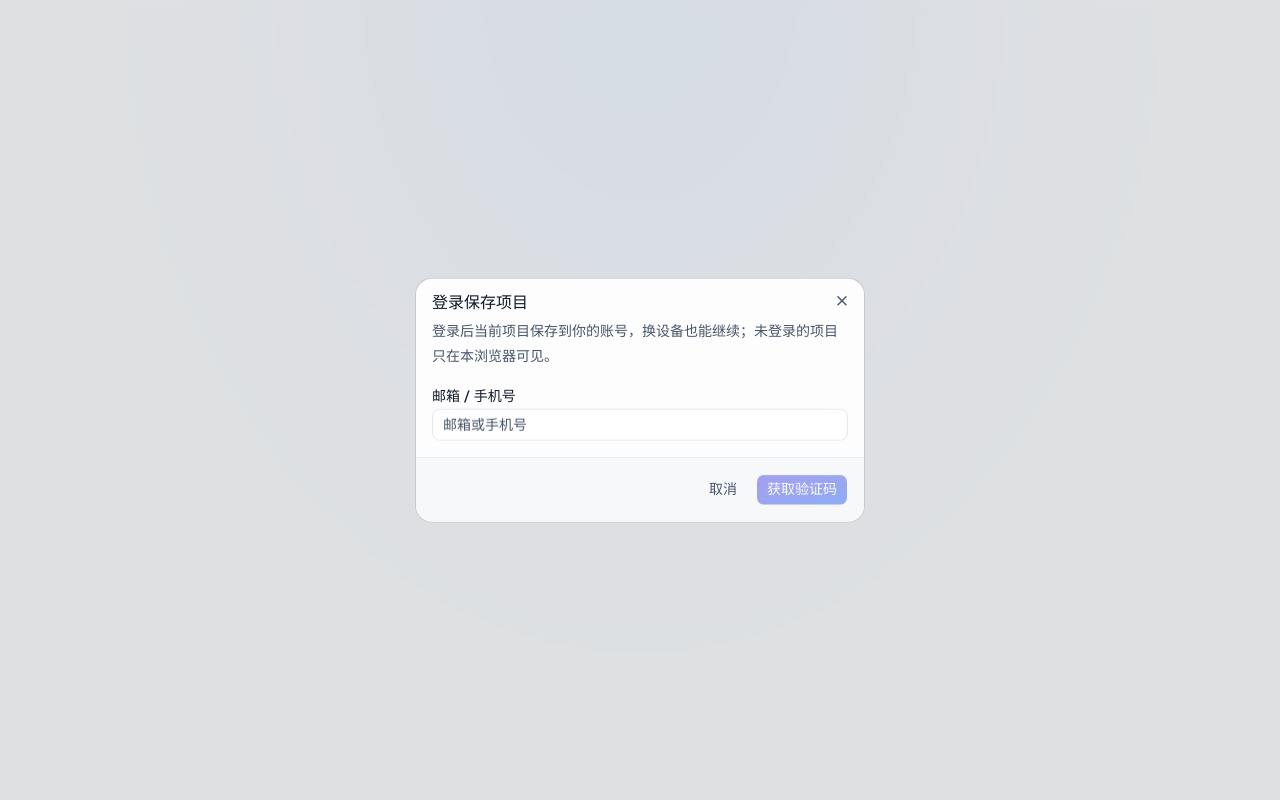
Test: M01Dialog · 错误就地提示 › 验证码错（6008）就地提示、清空输入、弹窗不关
The image size is (1280, 800).
Type "user@example.com" into the field labelled "邮箱 / 手机号" at (640, 424), box x1=432 y1=408 x2=848 y2=440
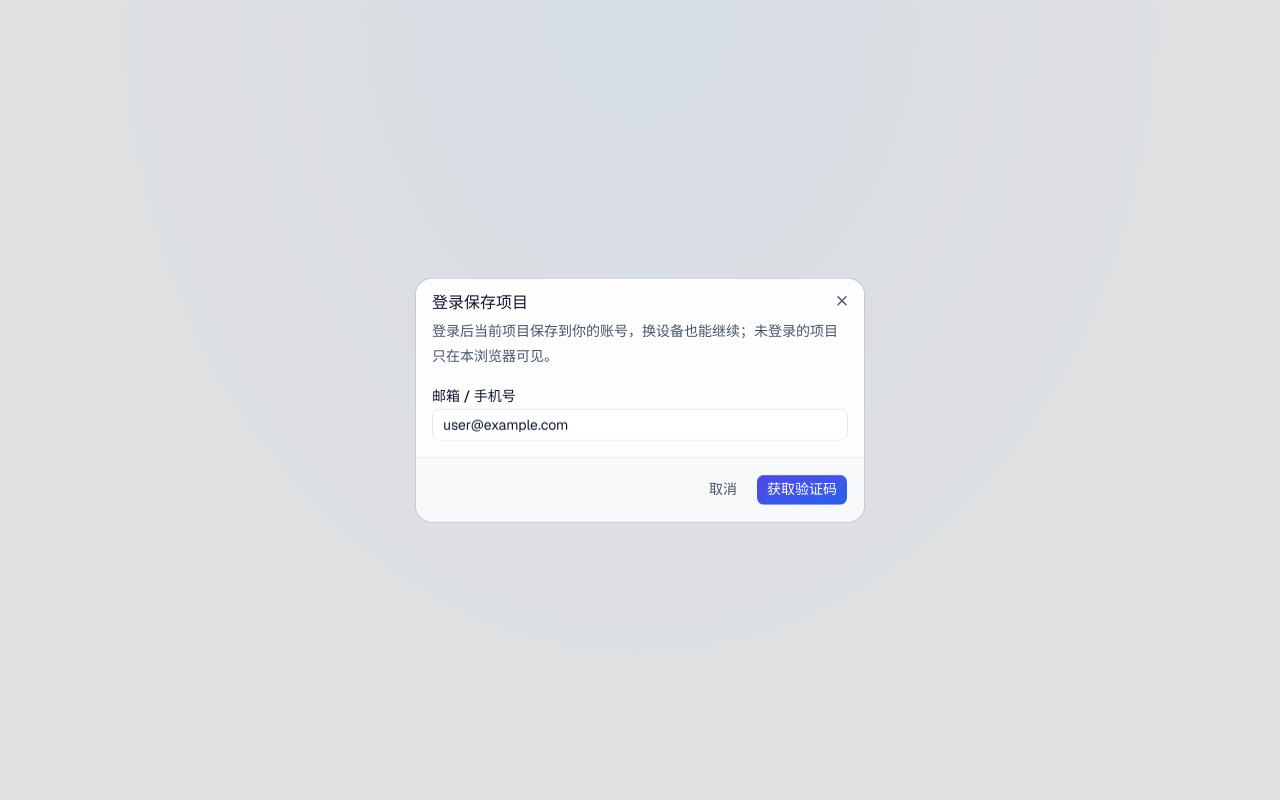
Click the button "获取验证码" at (802, 489), box x1=756 y1=473 x2=848 y2=505
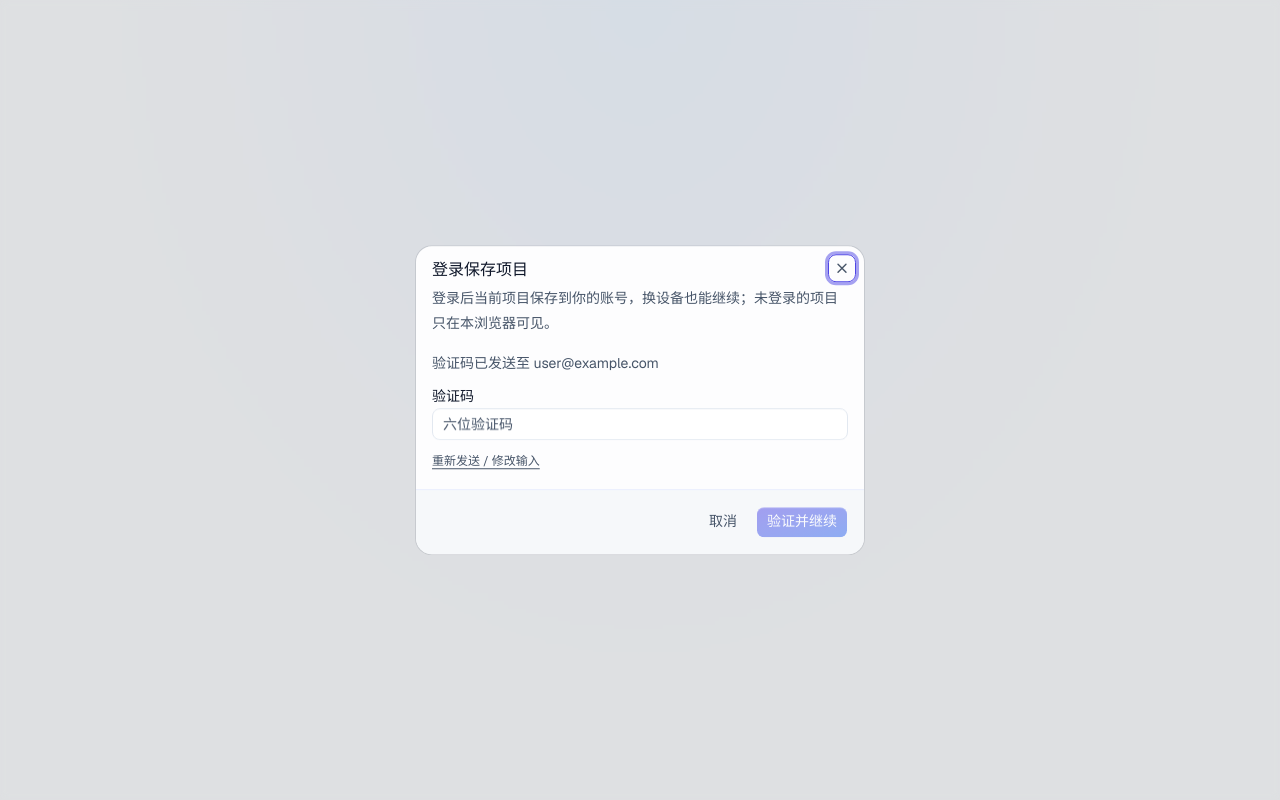
Expected: the text "验证码已发送至 user@example.com" is shown, x1=432 y1=354 x2=659 y2=372
Type "000000" into the field labelled "验证码" at (640, 424), box x1=432 y1=408 x2=848 y2=440
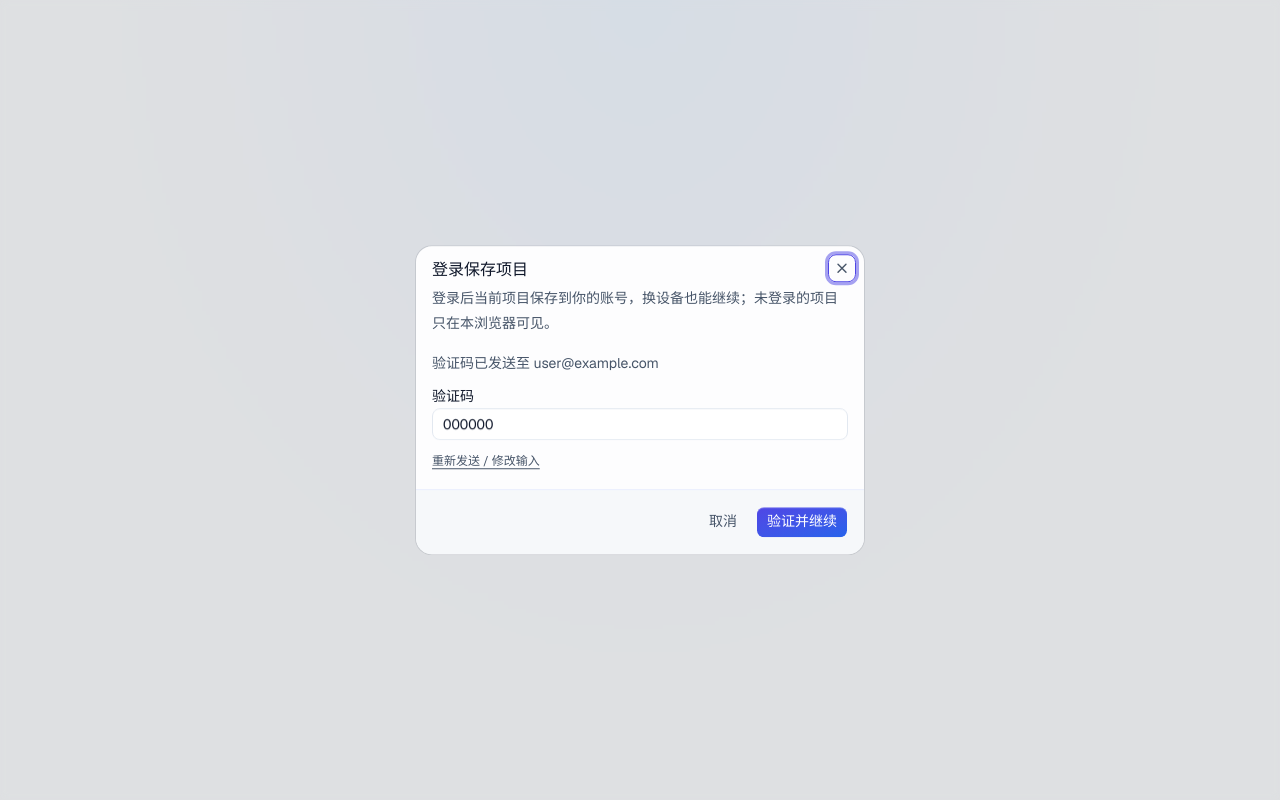
Click the button "验证并继续" at (802, 522), box x1=756 y1=506 x2=848 y2=538
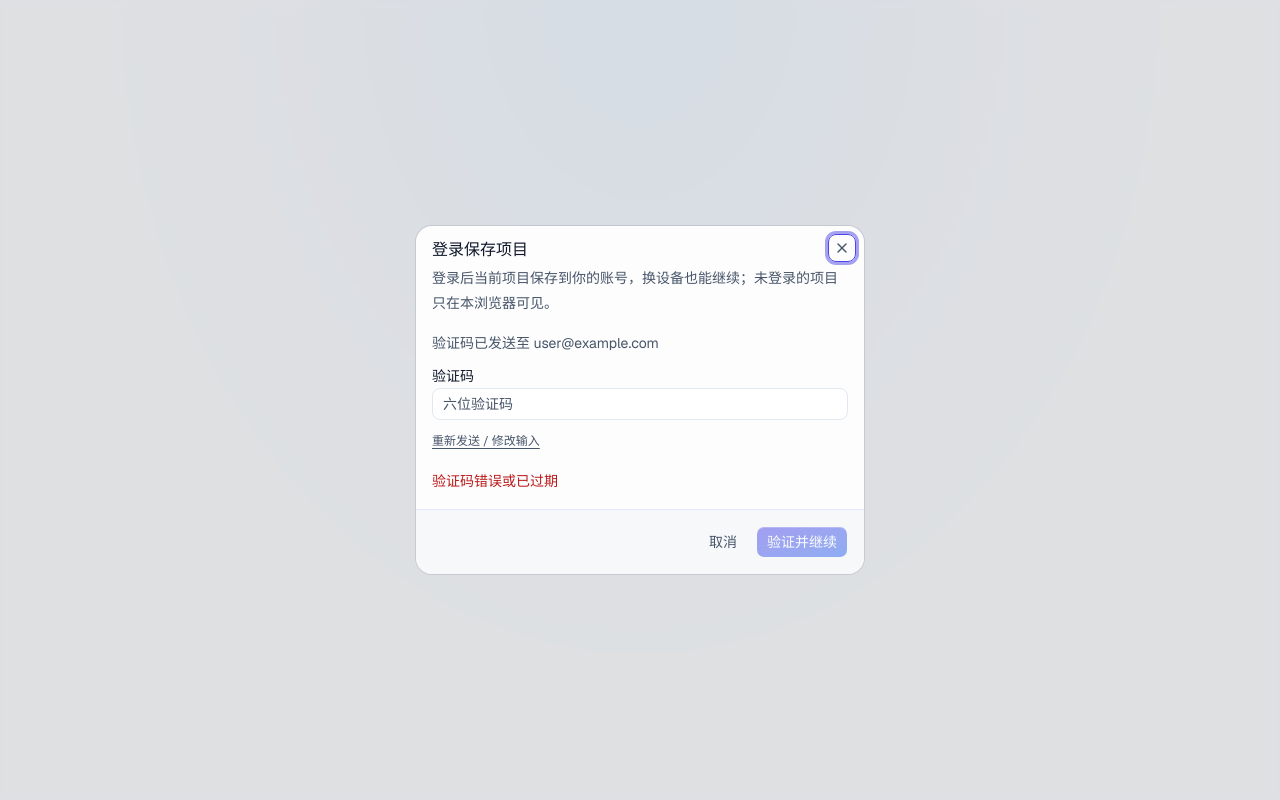
Expected: the message reads "验证码错误或已过期", x1=432 y1=472 x2=558 y2=490
Expected: the field labelled "验证码" is empty, x1=432 y1=388 x2=848 y2=420
